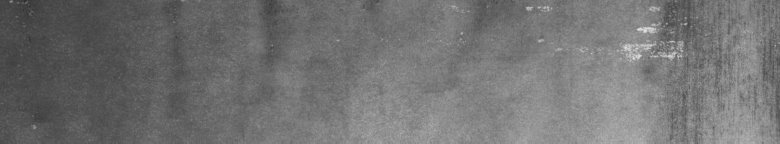hc: (617, 6, 767, 102)
